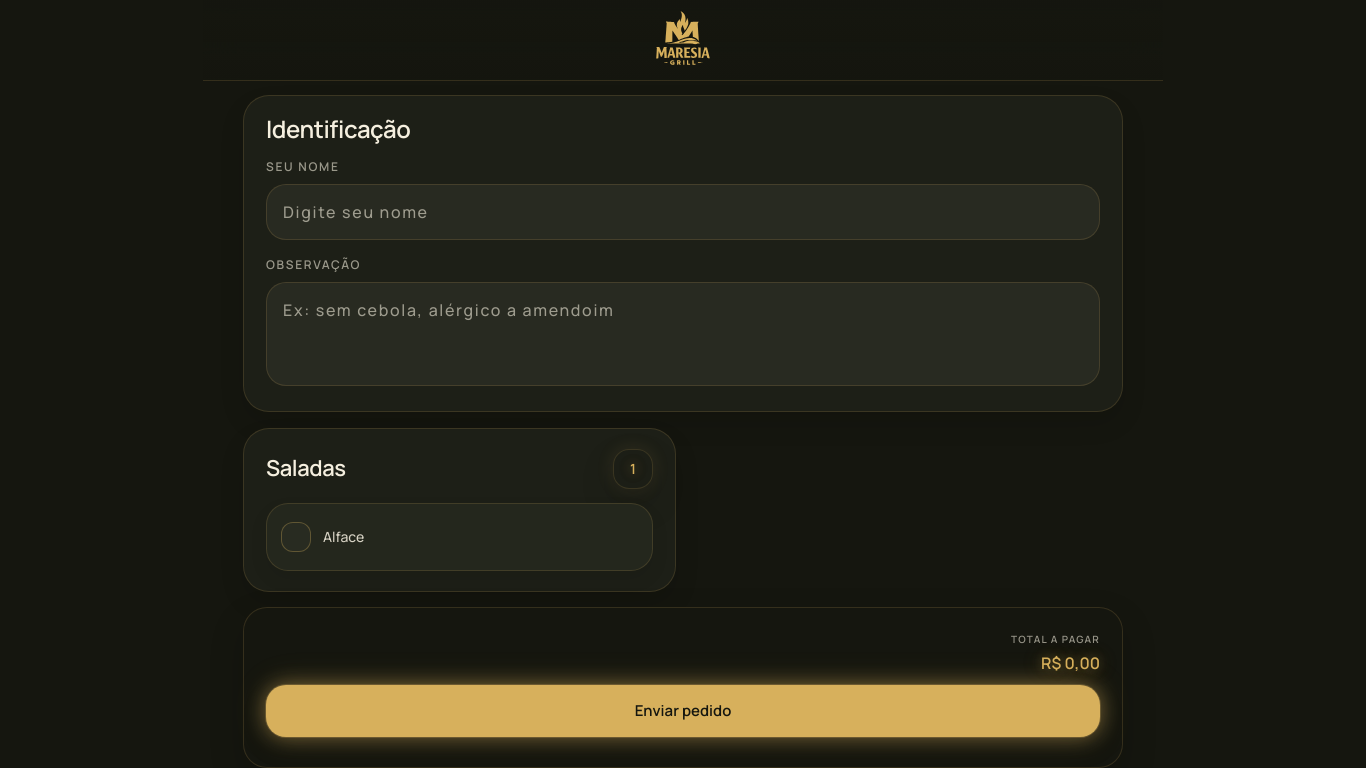
App › focuses the customer name field when submit is attempted without a name
The width and height of the screenshot is (1366, 768).
Click the button with aria-label "Adicionar Alface do menu do dia" at coordinates (344, 537), box [266,503,653,571]
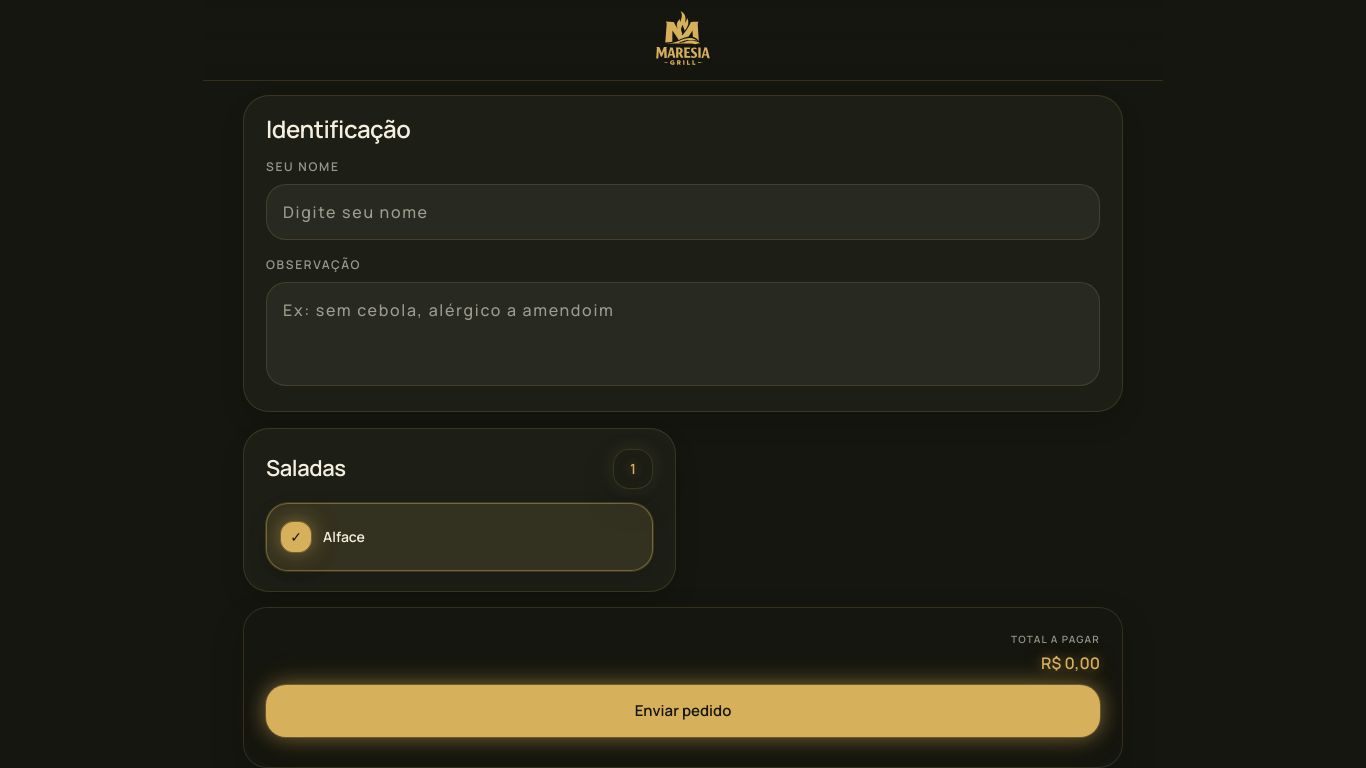
Click the button "Enviar pedido" at coordinates (683, 711), box [266,685,1100,737]
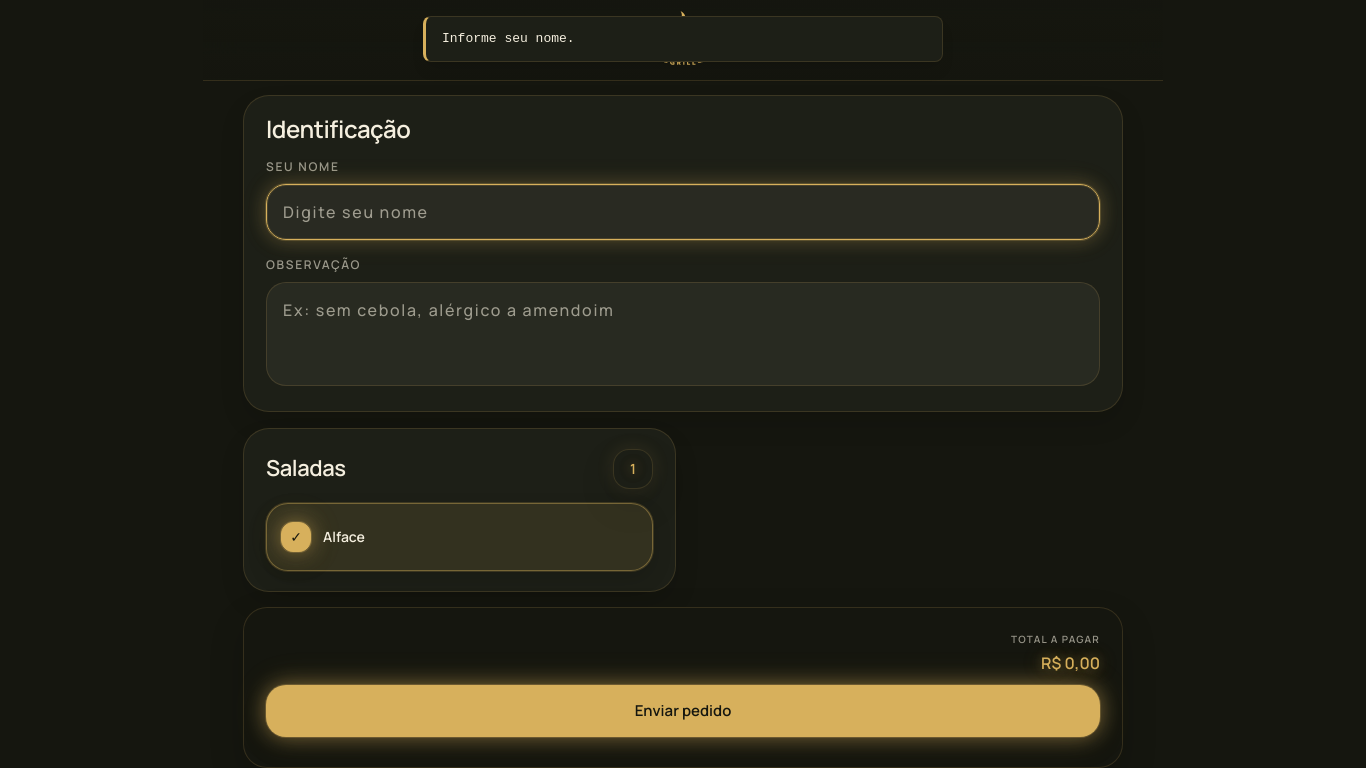
Now the text "Informe seu nome." is shown, box [442,31,575,46]
